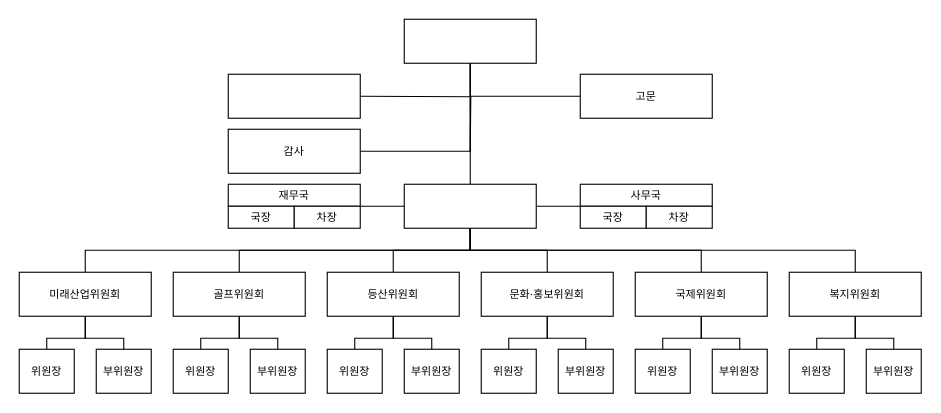
Some shapes in this 941 by 413 pixel diagram are drawn without their labels. Each missing label, with the centre of its shape:
"사무총장" goes at (x=469, y=205).
"자문회원" goes at (x=293, y=95).
"회장" goes at (x=469, y=40).
